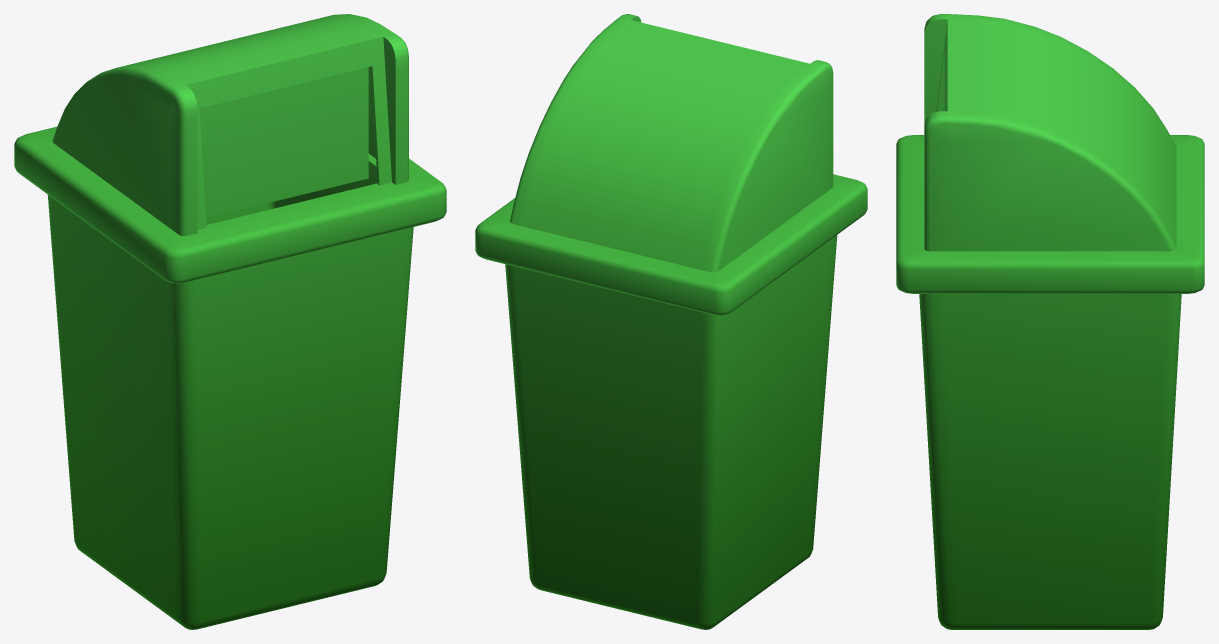
File: trash_bin_c_green.glb
The picture shows the model from 3 angles, left to right: view 1: azimuth 30°, elevation 25°; view 2: azimuth 150°, elevation 25°; view 3: azimuth 270°, elevation 25°; orthographic projection. The views are drawn at different scales.
Visible parts, largest first — view 1: trash_bin_c_green; view 2: trash_bin_c_green; view 3: trash_bin_c_green.
Part boxes in pixels (x1,y1,x2,y2): trash_bin_c_green: (14,14,446,629); trash_bin_c_green: (475,14,867,629); trash_bin_c_green: (896,14,1204,629).
Size of the model in its own units: 0.4111 by 0.7667 by 0.4111.
Materials: 1 (1 with a texture image).
